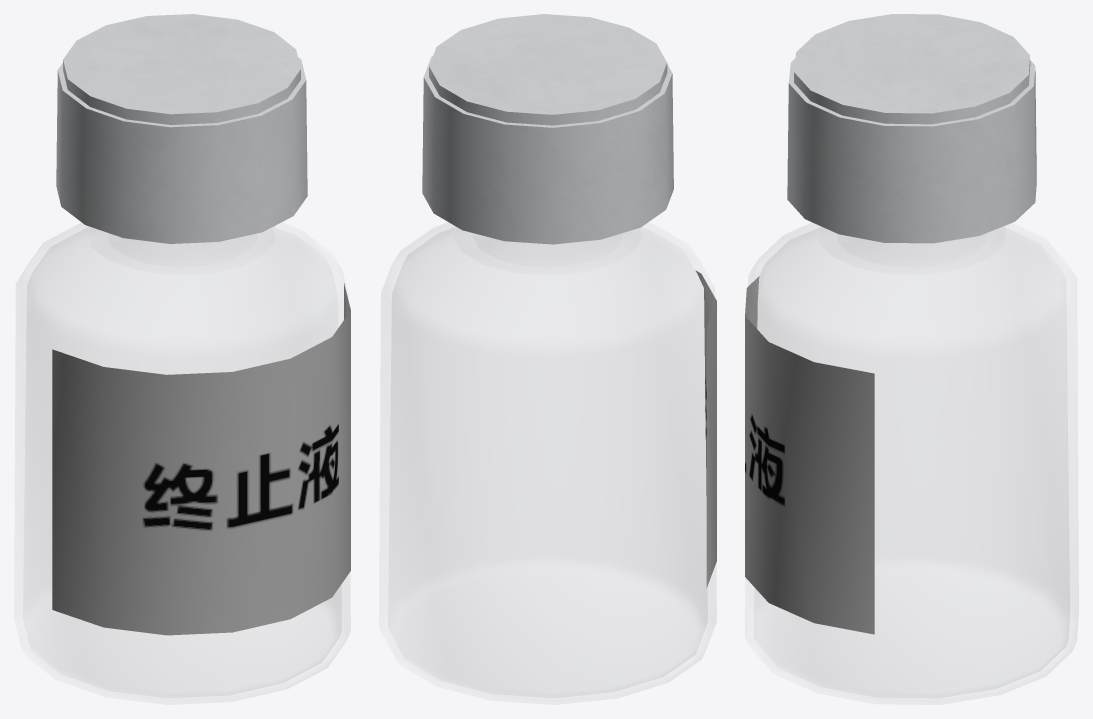
File: 终止液.glb
3 renders of one model, left to right at view 1: azimuth 30°, elevation 25°; view 2: azimuth 150°, elevation 25°; view 3: azimuth 270°, elevation 25°, orthographic.
Visible parts, largest first — view 1: 1XPBS缓冲液.009, 1XPBS缓冲液.010, 1XPBS缓冲液.011, 终止液; view 2: 1XPBS缓冲液.010, 1XPBS缓冲液.011, 终止液, 1XPBS缓冲液.009; view 3: 1XPBS缓冲液.010, 1XPBS缓冲液.011, 1XPBS缓冲液.009, 终止液.
Boxes of the visible parts, <box> form: 1XPBS缓冲液.009: <box>52,283,350,635</box>; 1XPBS缓冲液.010: <box>23,228,341,697</box>; 1XPBS缓冲液.011: <box>56,14,307,243</box>; 终止液: <box>14,222,350,704</box>; 1XPBS缓冲液.010: <box>388,228,707,697</box>; 1XPBS缓冲液.011: <box>422,14,673,244</box>; 终止液: <box>379,222,716,704</box>; 1XPBS缓冲液.009: <box>695,270,716,587</box>; 1XPBS缓冲液.010: <box>754,227,1069,697</box>; 1XPBS缓冲液.011: <box>787,14,1036,243</box>; 1XPBS缓冲液.009: <box>745,276,874,634</box>; 终止液: <box>745,223,1078,704</box>.
Size of the model in its own units: 0.068 by 0.1296 by 0.068.
1 material, 1 textured.
